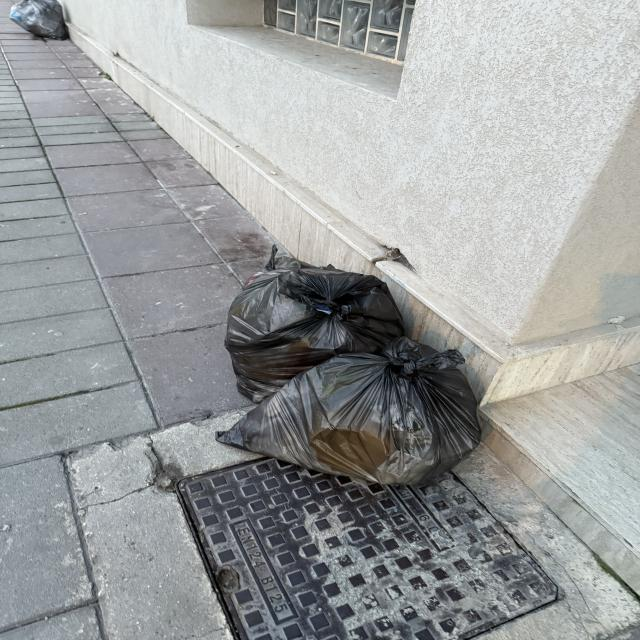Mixed Waste -Black Bags-: (216, 245, 483, 486)
